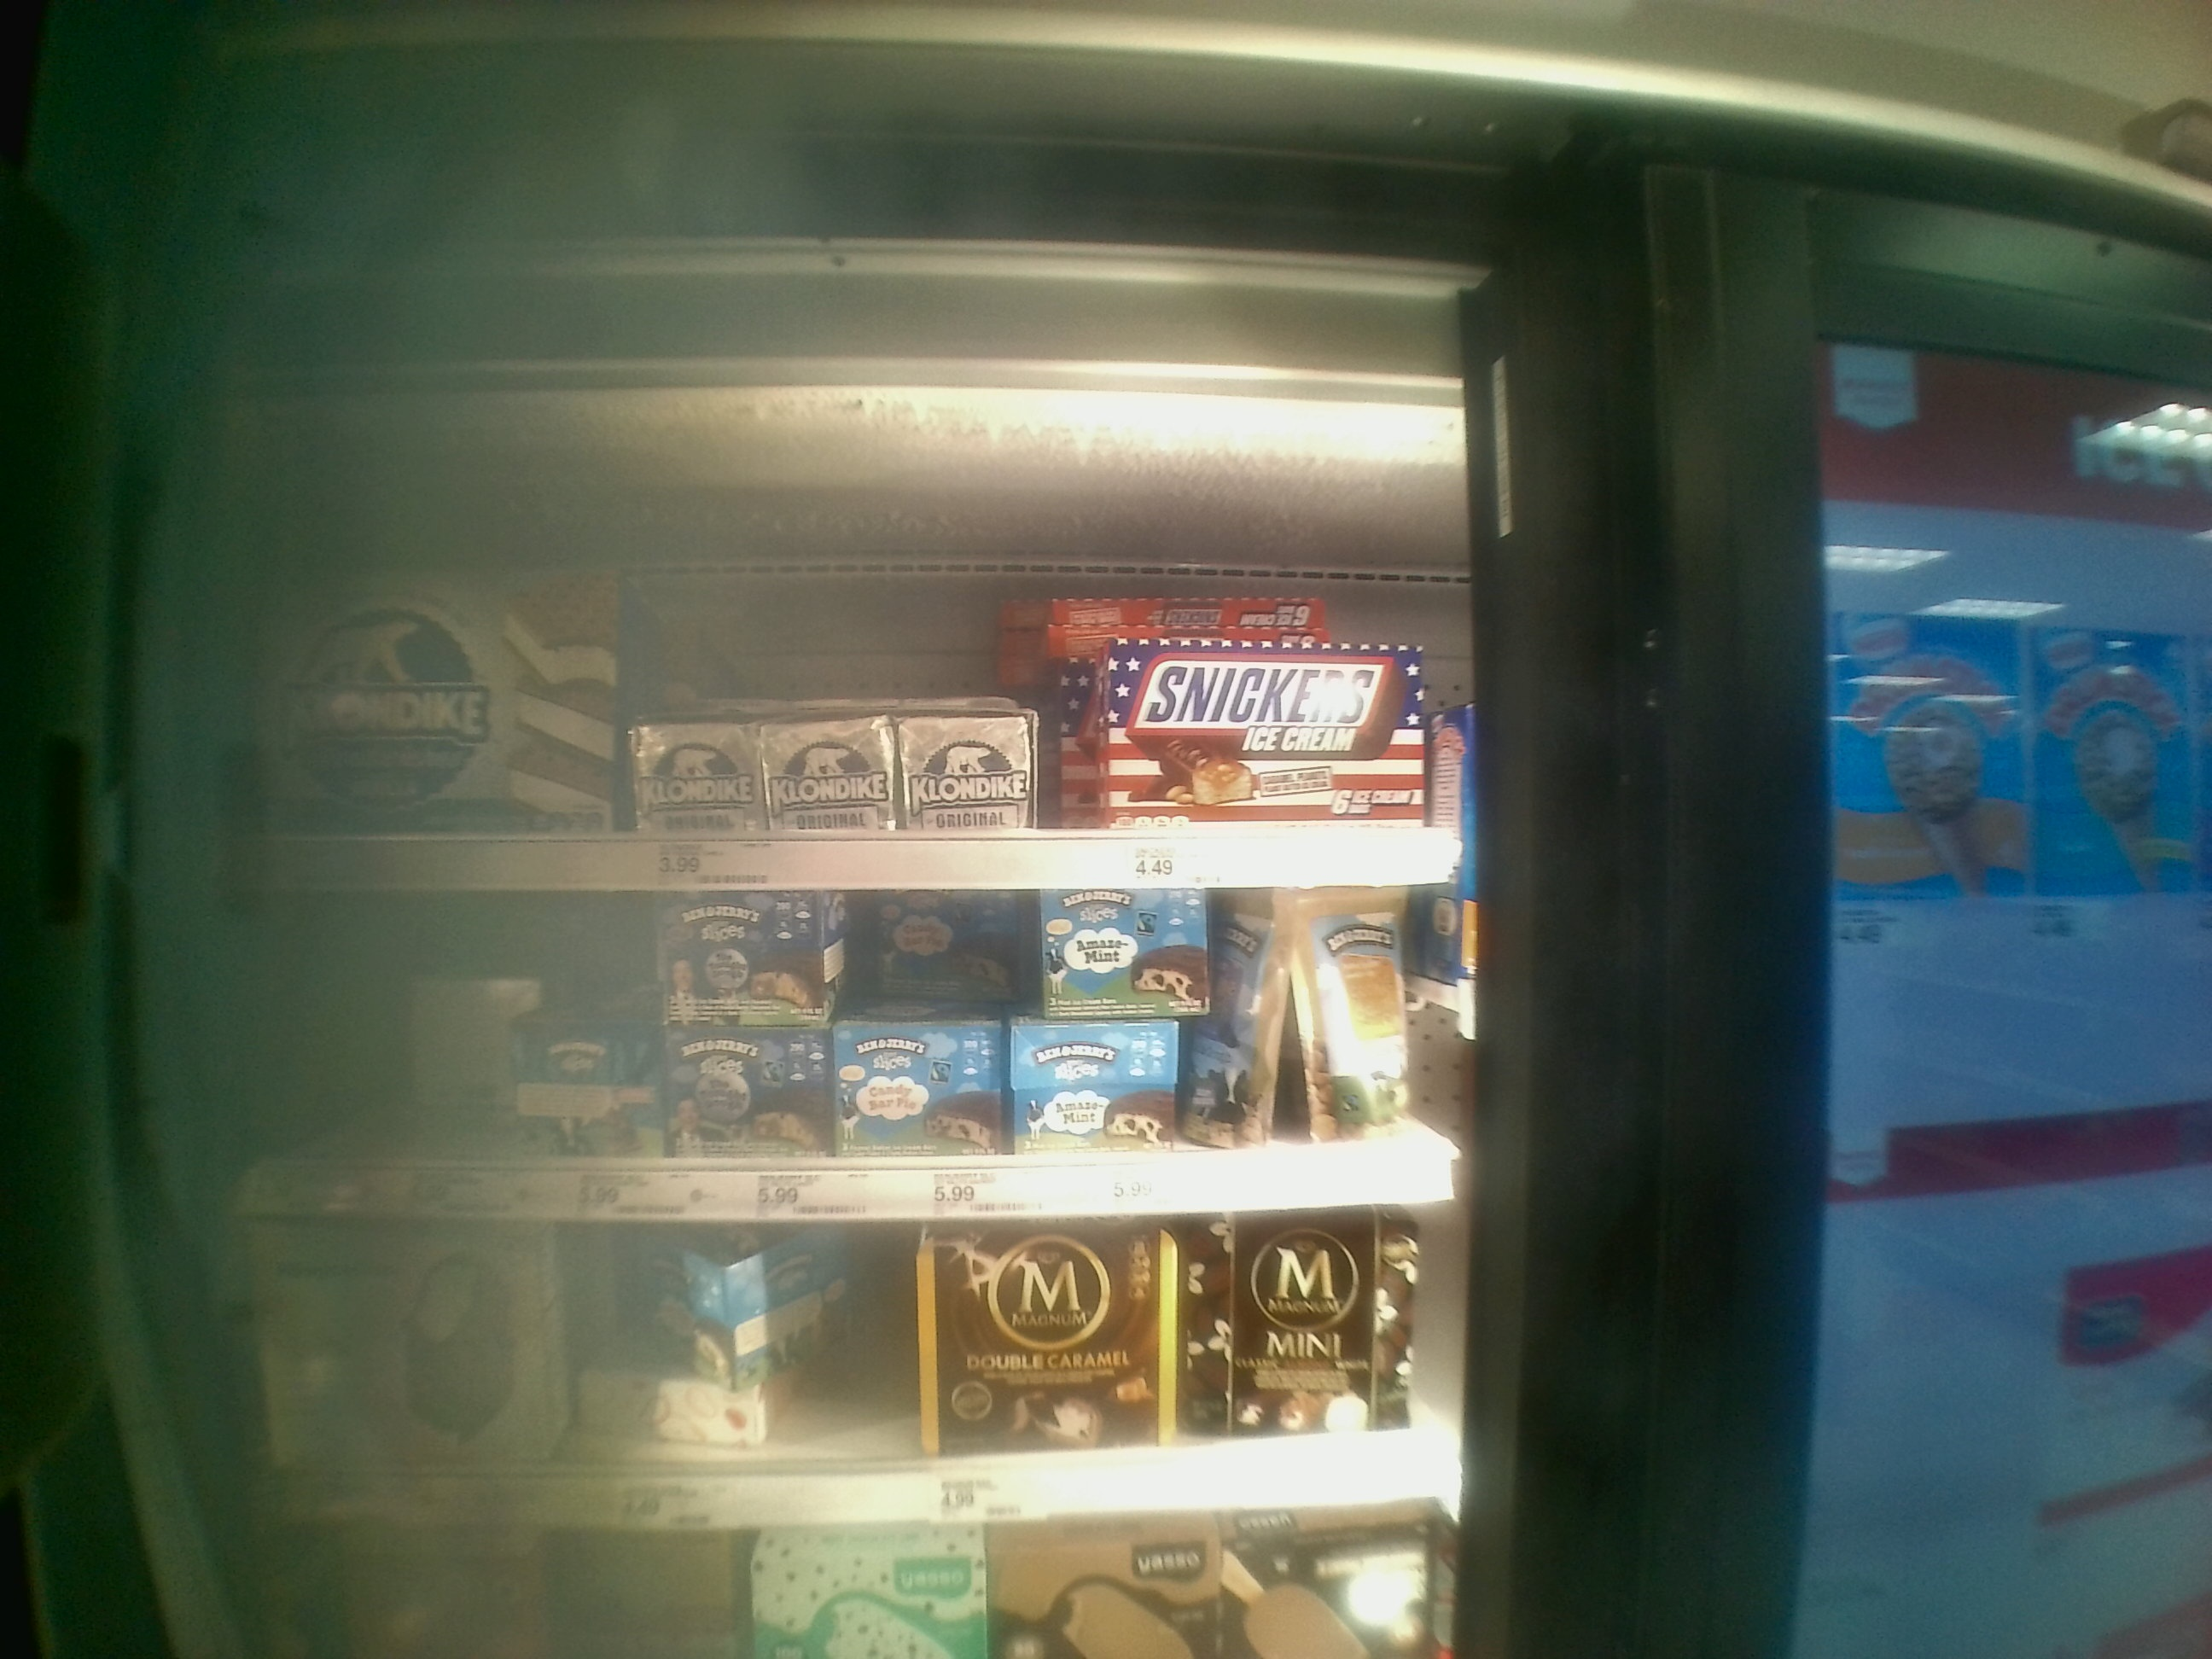shelf: (261, 465, 1480, 884), (240, 887, 1447, 1202), (237, 1211, 1439, 1518)
